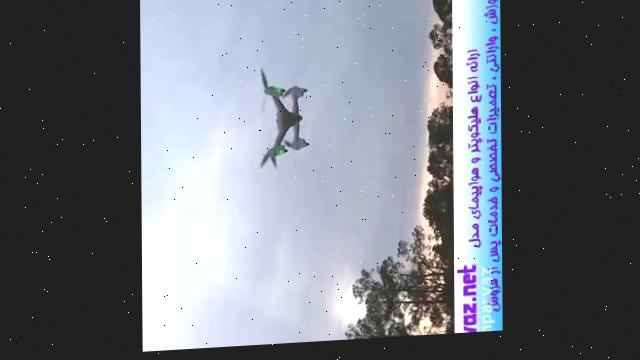drone: (251, 64, 312, 178)
